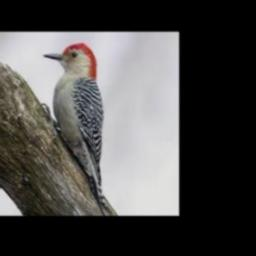Woodpecker: (44, 43, 115, 215)
